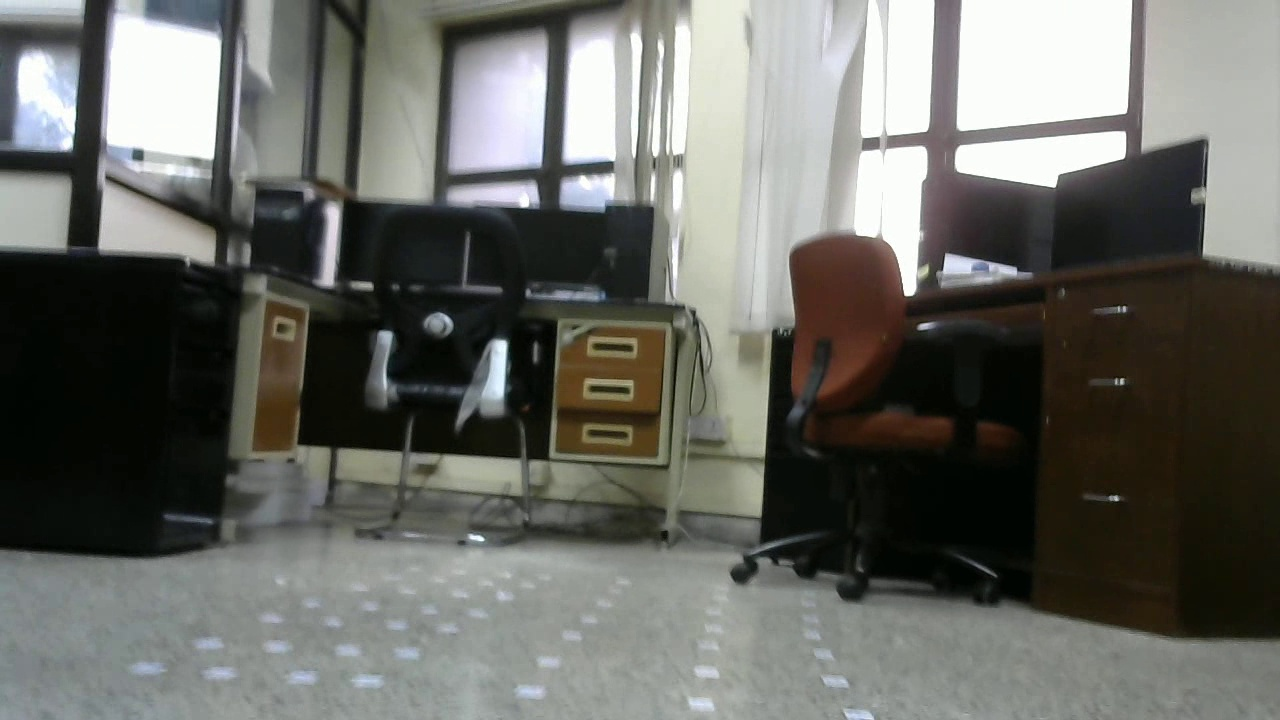chair: (728, 226, 1008, 608), (355, 212, 542, 555)
